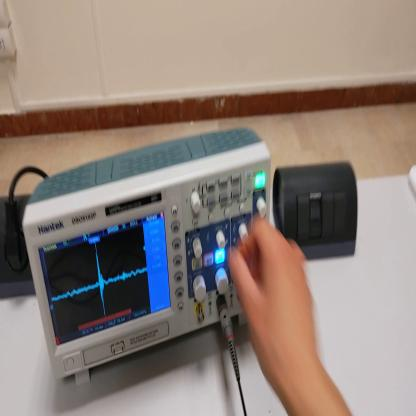hand: (231, 216, 320, 389)
oscilloscope: (21, 122, 273, 385)
socket: (2, 194, 36, 300)
